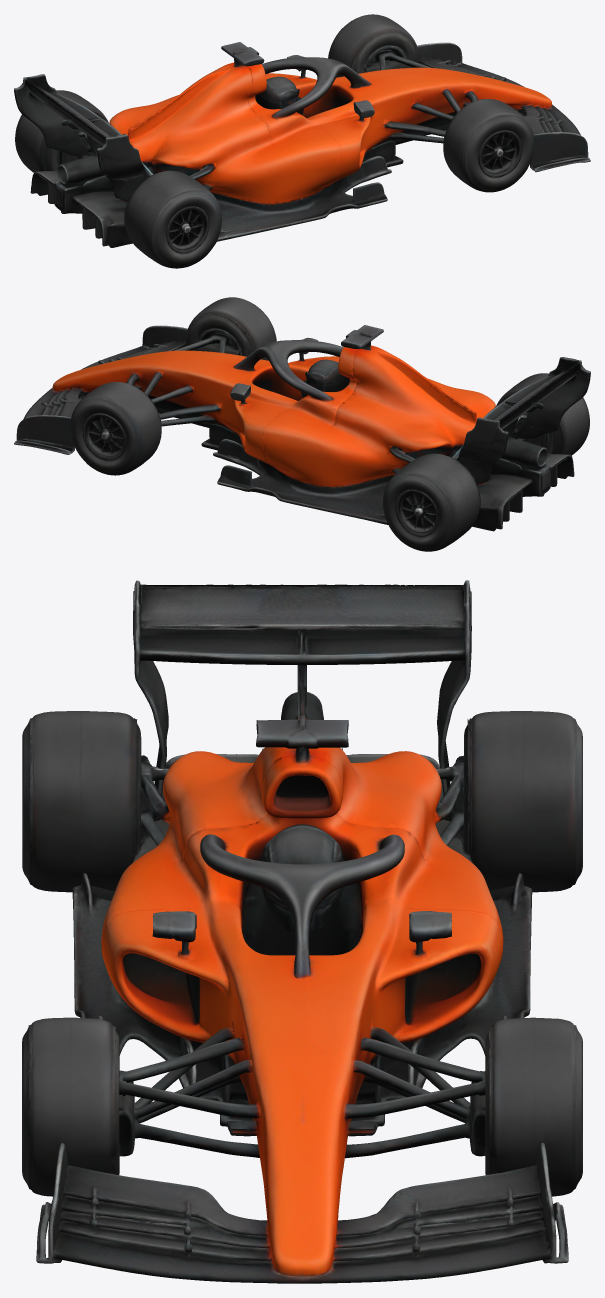
Rendered from car.glb.
3 renders of one model, top to bottom at view 1: azimuth 30°, elevation 25°; view 2: azimuth 150°, elevation 25°; view 3: azimuth 270°, elevation 25°, orthographic. The views are drawn at different scales.
Visible parts, largest first — view 1: tripo_node_da162474-8a1f-4653-9d15-862f8e57f613; view 2: tripo_node_da162474-8a1f-4653-9d15-862f8e57f613; view 3: tripo_node_da162474-8a1f-4653-9d15-862f8e57f613.
Boxes of the visible parts, box(x1,y1,x2,y2) form: tripo_node_da162474-8a1f-4653-9d15-862f8e57f613: box(14, 14, 590, 268); tripo_node_da162474-8a1f-4653-9d15-862f8e57f613: box(14, 297, 590, 551); tripo_node_da162474-8a1f-4653-9d15-862f8e57f613: box(22, 580, 582, 1283).
Bounding box in the file's own units: 0.9825 × 0.2668 × 0.4822.
Materials: 1 (1 with a texture image).
